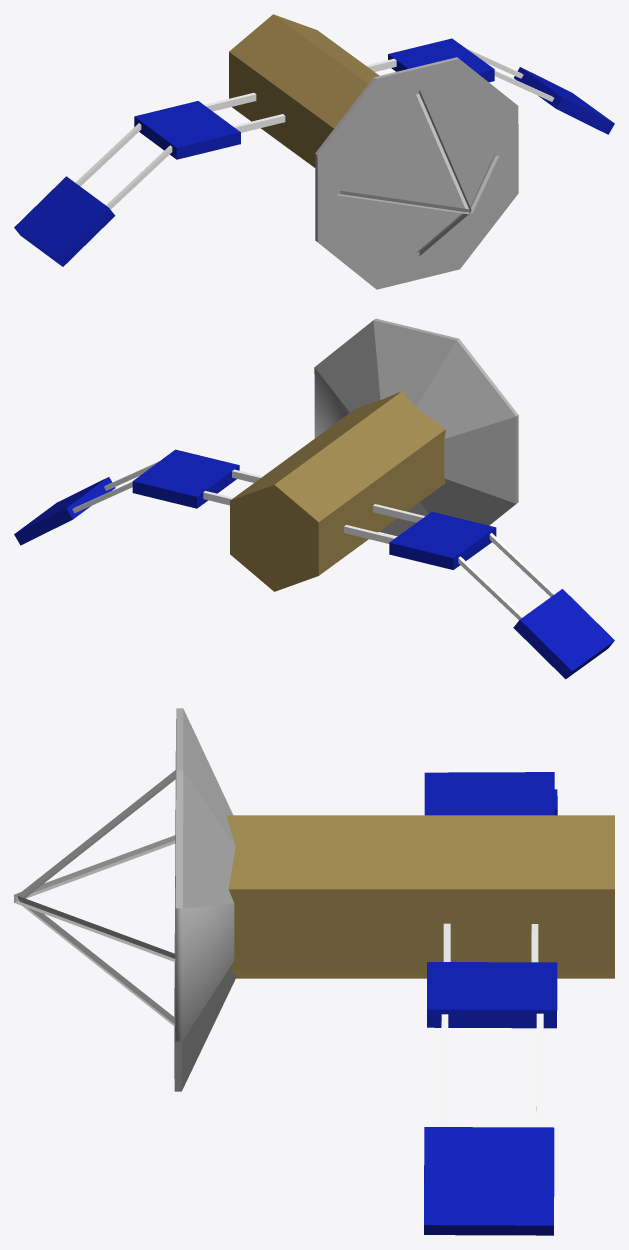
The model's file is satellite.gltf.
3 renders of one model, top to bottom at view 1: azimuth 30°, elevation 25°; view 2: azimuth 150°, elevation 25°; view 3: azimuth 270°, elevation 25°, orthographic. The views are drawn at different scales.
Visible parts, largest first — view 1: Cylinder.003, Cylinder, Cylinder.000, Cylinder.005, Cube.003, Cube; view 2: Cylinder, Cylinder.003, Cylinder.000, Cylinder.005; view 3: Cylinder, Cylinder.005, Cylinder.003, Cylinder.000, Cube, Cube.001, Cube.002, Cube.003.
Part boxes in pixels (x1,y1,x2,y2): Cylinder.003: (315,57,518,289); Cylinder: (229,14,379,167); Cylinder.000: (14,93,285,266); Cylinder.005: (366,38,614,134); Cube.003: (336,190,469,214); Cube: (416,90,471,212); Cylinder: (230,391,445,591); Cylinder.003: (314,318,518,536); Cylinder.000: (344,504,614,679); Cylinder.005: (14,449,262,545); Cylinder: (226,815,614,978); Cylinder.005: (424,923,557,1235); Cylinder.003: (174,708,237,1091); Cylinder.000: (424,772,557,815); Cube: (16,770,175,901); Cube.001: (14,896,175,961); Cube.002: (16,900,174,1026); Cube.003: (14,835,175,901).
Bounding box in the file's own units: 22.82 × 8.23 × 13.95.
